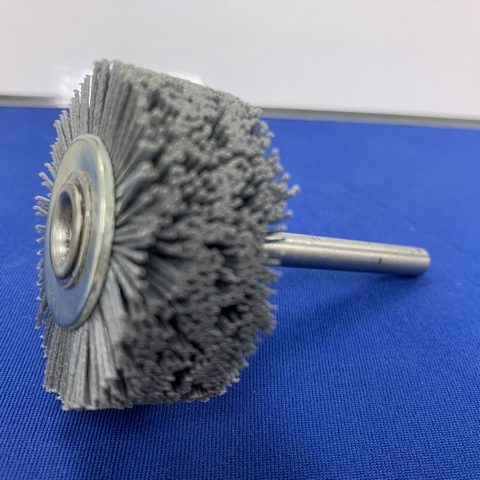Wheel Brush: (24, 56, 428, 398), (26, 82, 464, 395), (9, 95, 461, 380), (18, 46, 290, 422)
